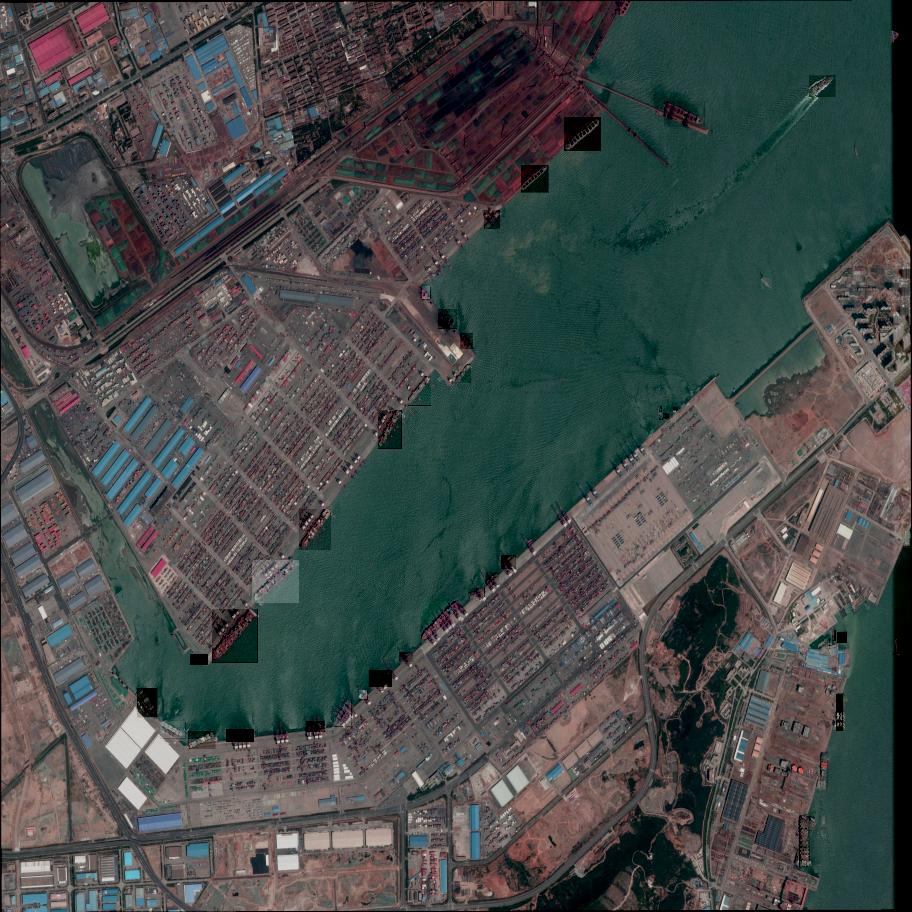ship: (212, 610, 260, 664), (252, 561, 300, 604), (420, 601, 463, 642), (564, 118, 604, 152), (300, 510, 332, 552), (664, 101, 707, 129), (378, 411, 403, 450), (521, 166, 551, 193), (408, 376, 433, 406), (137, 688, 159, 718), (809, 76, 838, 98), (188, 731, 217, 749), (800, 816, 810, 867), (334, 700, 352, 727), (160, 721, 186, 739), (369, 670, 394, 688), (438, 309, 459, 329), (226, 729, 254, 743), (484, 210, 502, 230), (456, 364, 472, 383), (820, 752, 828, 789), (423, 270, 443, 283), (460, 333, 473, 350), (307, 722, 327, 733), (837, 695, 843, 731), (502, 556, 517, 570), (190, 655, 208, 666), (486, 573, 500, 586), (468, 588, 485, 598), (819, 639, 831, 650), (761, 279, 773, 290), (422, 287, 432, 300), (399, 653, 413, 662), (837, 632, 848, 643), (905, 532, 911, 547), (359, 691, 368, 701), (832, 630, 837, 640), (896, 640, 899, 654), (680, 403, 686, 408), (855, 148, 858, 157), (673, 408, 679, 412), (668, 415, 674, 419), (663, 413, 667, 418), (659, 415, 663, 420), (659, 407, 662, 412), (673, 410, 677, 413)
